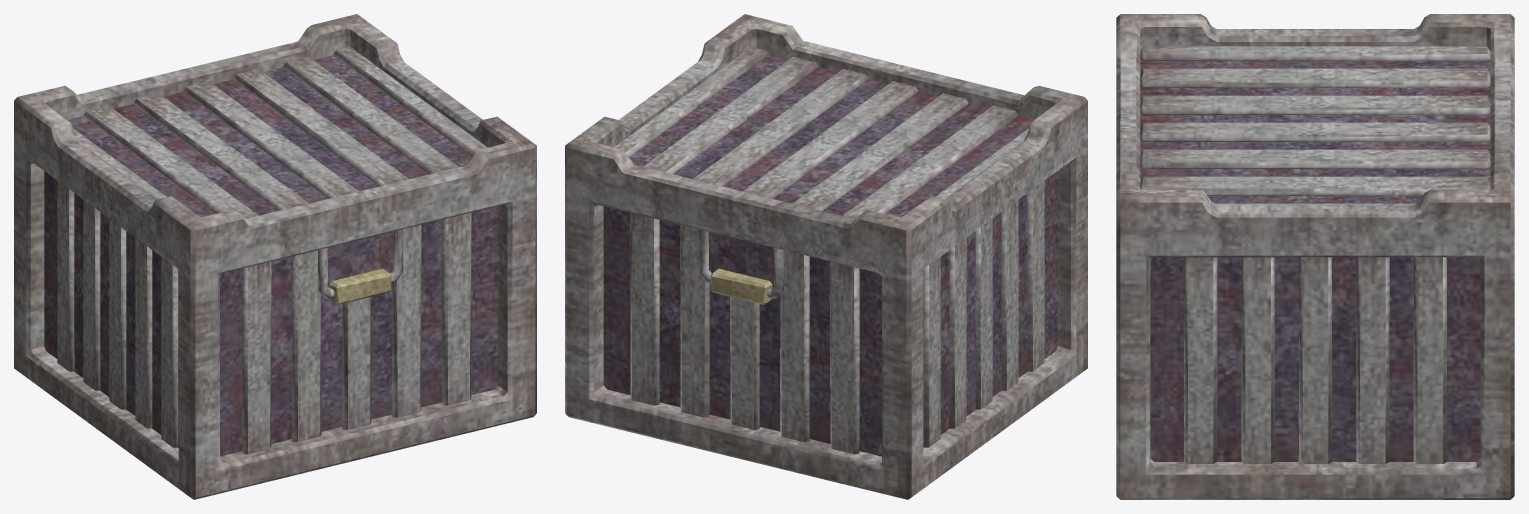
Rendered from steel-chest.glb.
3 views of the same model, side by side, from view 1: azimuth 30°, elevation 25°; view 2: azimuth 150°, elevation 25°; view 3: azimuth 270°, elevation 25° (orthographic). The views are drawn at different scales.
Visible parts, largest first — view 1: body; view 2: body; view 3: body.
Boxes of the visible parts, left/top/right/bottom form: body: left=14, top=14, right=536, bottom=499; body: left=565, top=14, right=1087, bottom=499; body: left=1116, top=14, right=1514, bottom=499.
Bounding box in the file's own units: 1 × 0.7555 × 0.9.
1 material, 1 textured.
